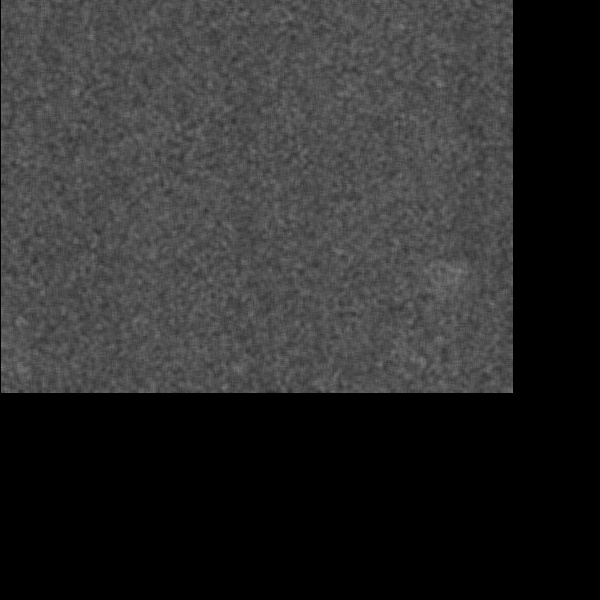spark: (426, 258, 462, 302)
